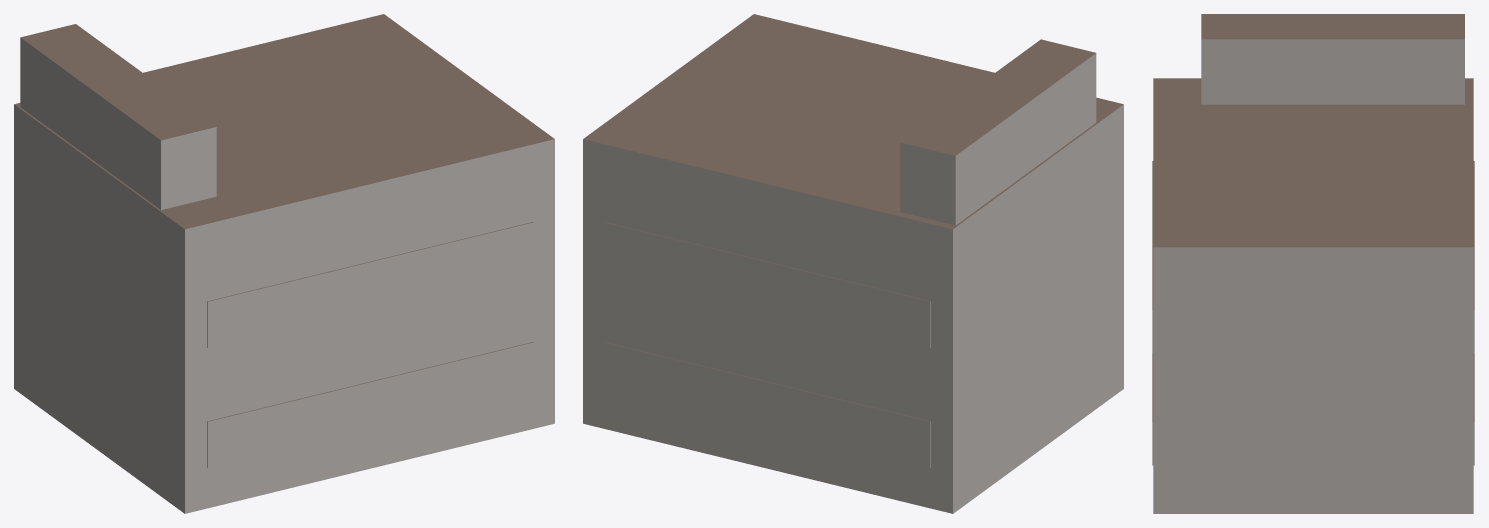
The model's file is coastguard-station.far-facades-v1.lod2.glb.
The picture shows the model from 3 angles, left to right: view 1: azimuth 30°, elevation 25°; view 2: azimuth 150°, elevation 25°; view 3: azimuth 270°, elevation 25°; orthographic projection. The views are drawn at different scales.
Parts seen in each view (by area): view 1: coastguard-station; view 2: coastguard-station; view 3: coastguard-station.
Boxes of the visible parts, x1,y1,x2,y2 form: coastguard-station: [14, 14, 554, 513]; coastguard-station: [583, 14, 1123, 513]; coastguard-station: [1152, 14, 1474, 513].
Size of the model in its own units: 10 by 9.15 by 8.06.
